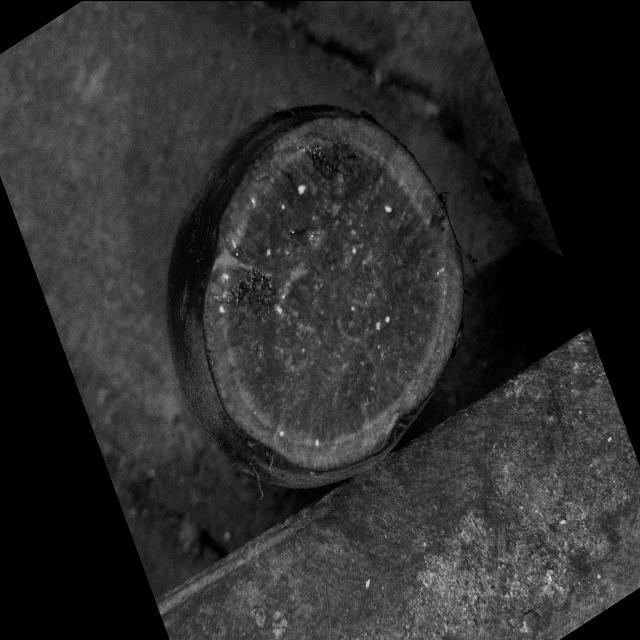Healthy Sweet Potato: (168, 105, 464, 487)
